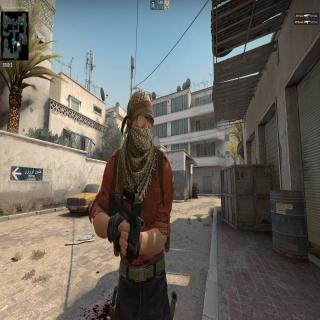T-Head: (120, 87, 157, 165)
